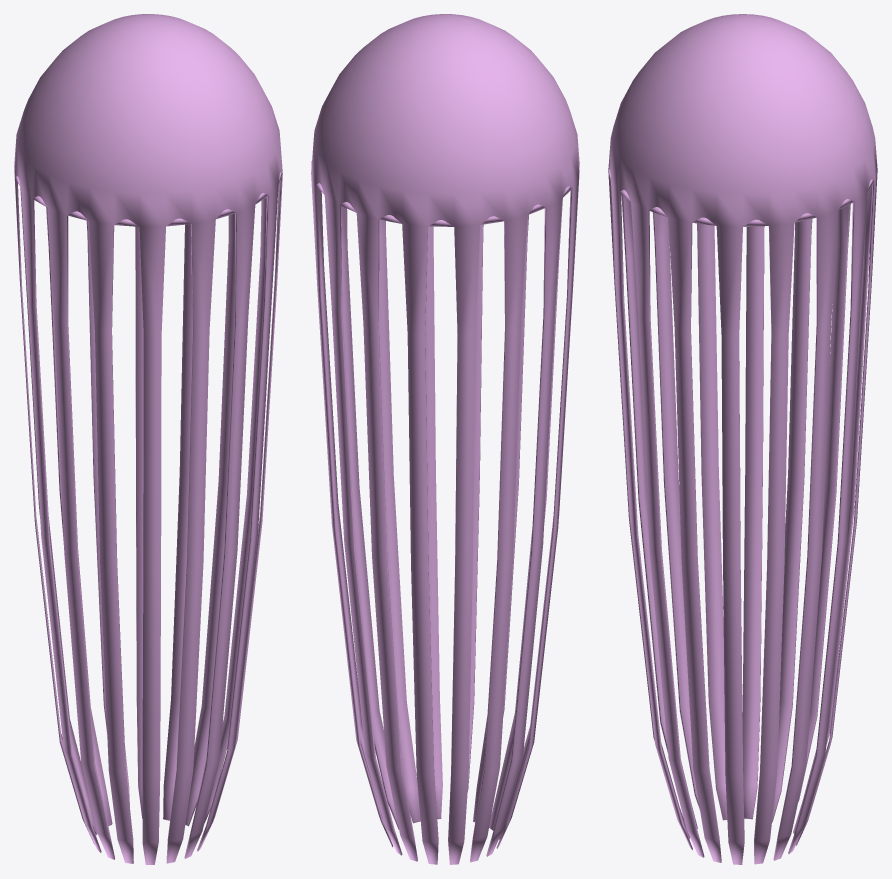
The model's file is jelly fish einzel.glb.
The picture shows the model from 3 angles, left to right: view 1: azimuth 30°, elevation 25°; view 2: azimuth 150°, elevation 25°; view 3: azimuth 270°, elevation 25°; orthographic projection.
Parts seen in each view (by area): view 1: Sphere.005; view 2: Sphere.005; view 3: Sphere.005.
Part boxes in pixels (<box>): Sphere.005: <box>14,14,282,864</box>; Sphere.005: <box>311,14,579,864</box>; Sphere.005: <box>608,14,877,864</box>.
Size of the model in its own units: 1.97 by 6.61 by 1.97.
